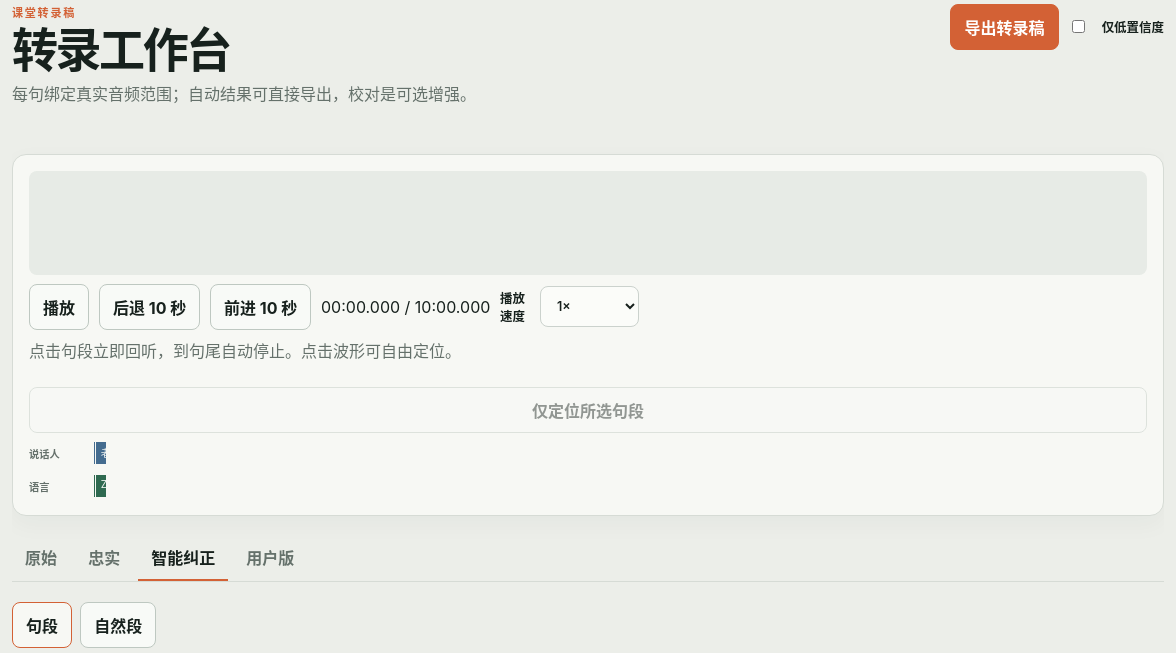
Scenario: groups consecutive sentences and preserves playback, selection and text-layer changes
Click the button "自然段": (118, 625) [80,602,156,648]
(page scrolled)
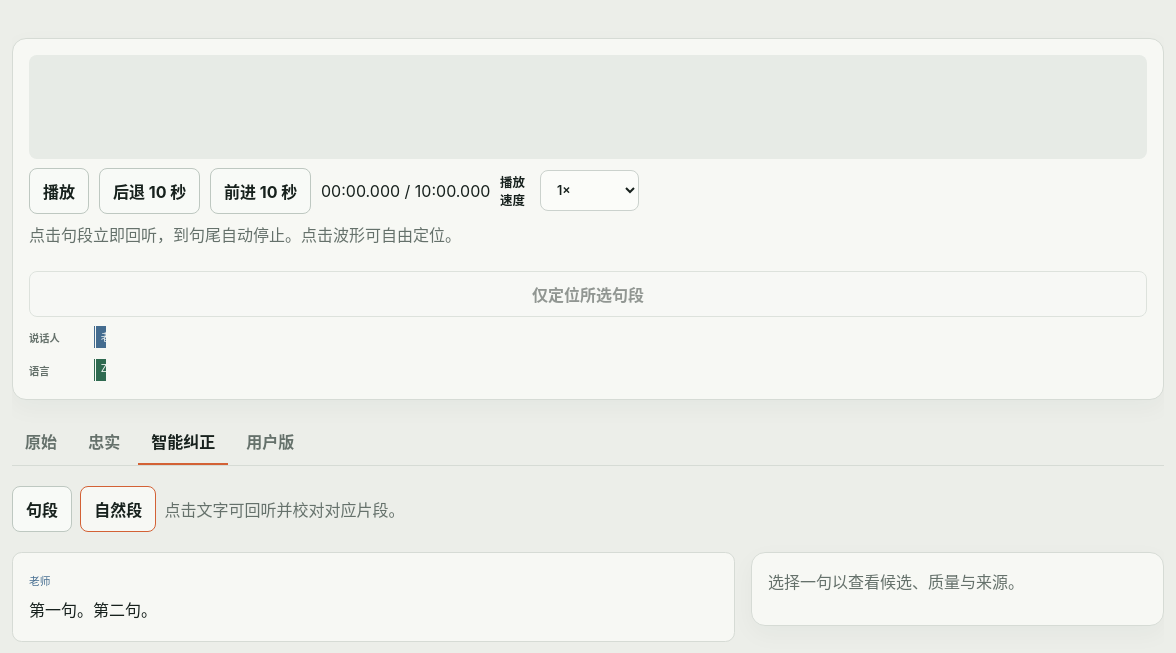
Expected: the number of elements with class "readable-paragraph" is 1, [12,552,735,642]
Click the button "第二句。": (125, 610) [93,595,157,625]
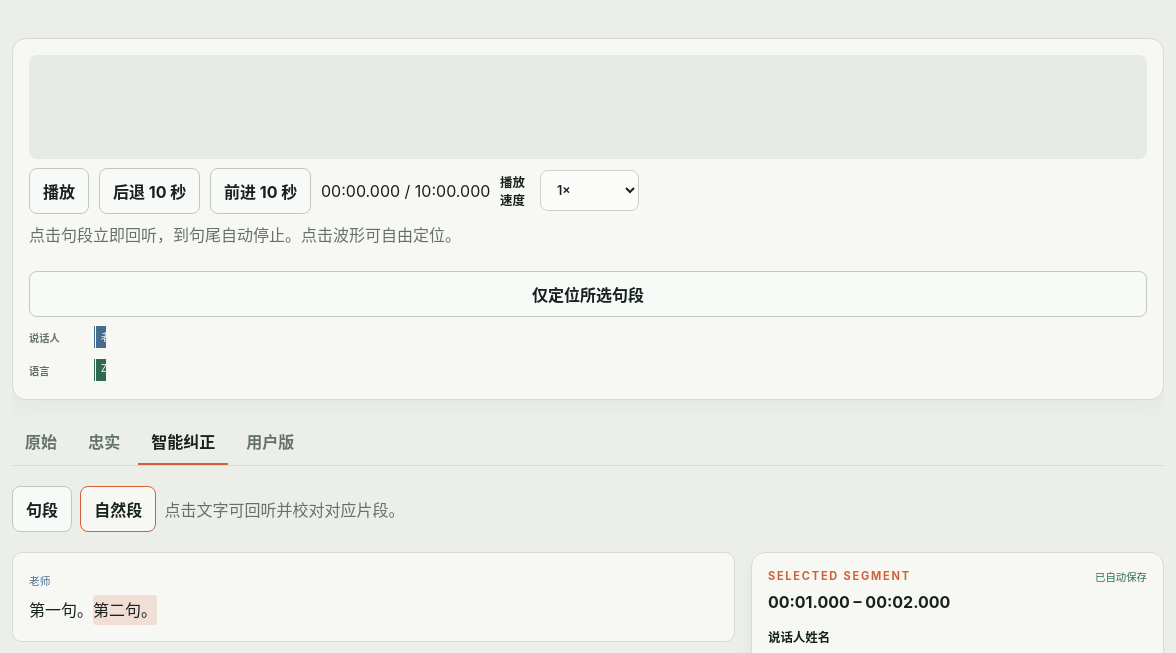
Click the tab "忠实": (104, 442) [75,420,133,465]
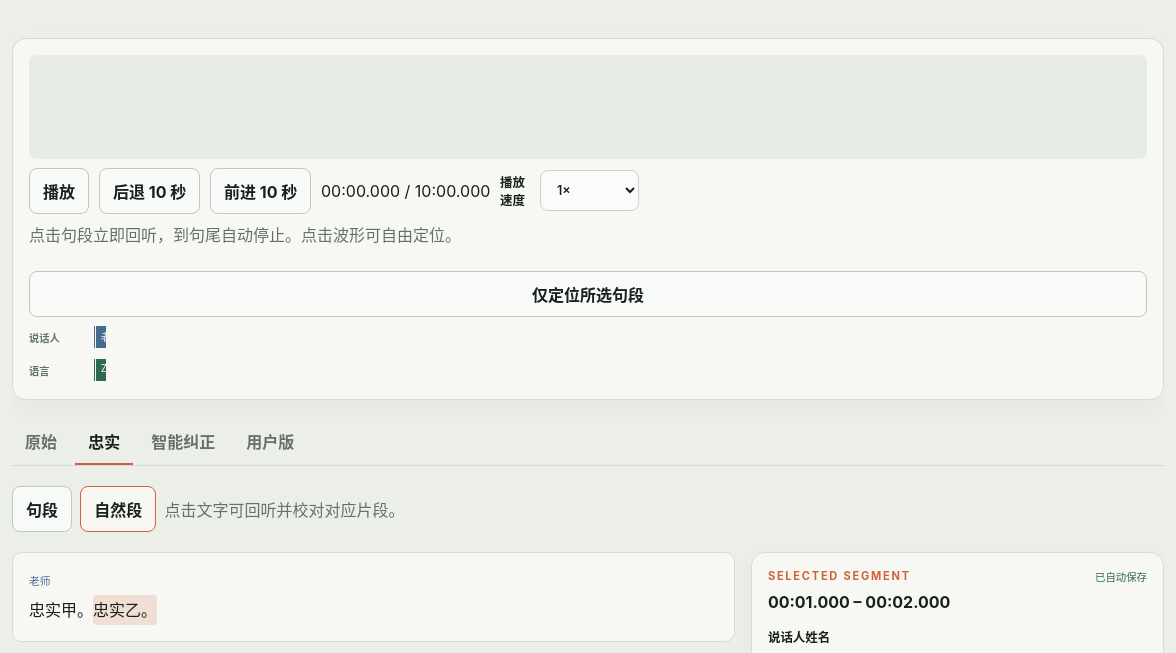
Expected: the button "忠实乙。" is shown, [93,595,157,625]
Click the tab "用户版": (270, 442) [233,420,307,465]
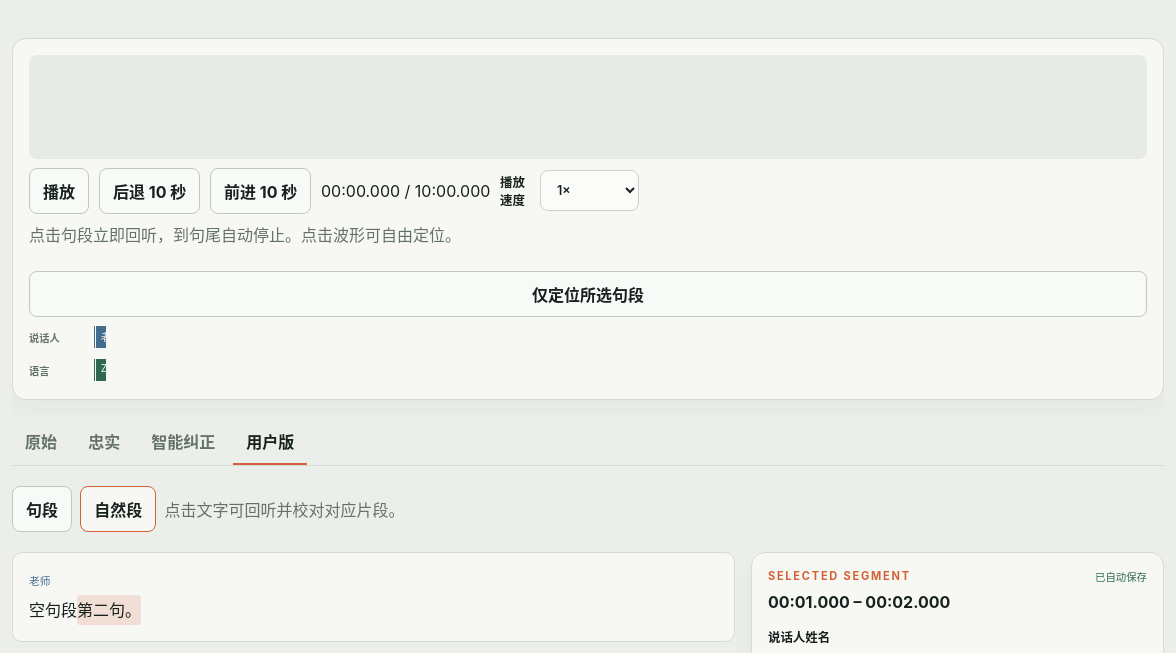
Expected: the button "第一句。" is not shown
Expected: the button "空句段" is shown, [29,595,77,625]
Click the button "句段": (42, 509) [12,486,72,532]
(page scrolled)
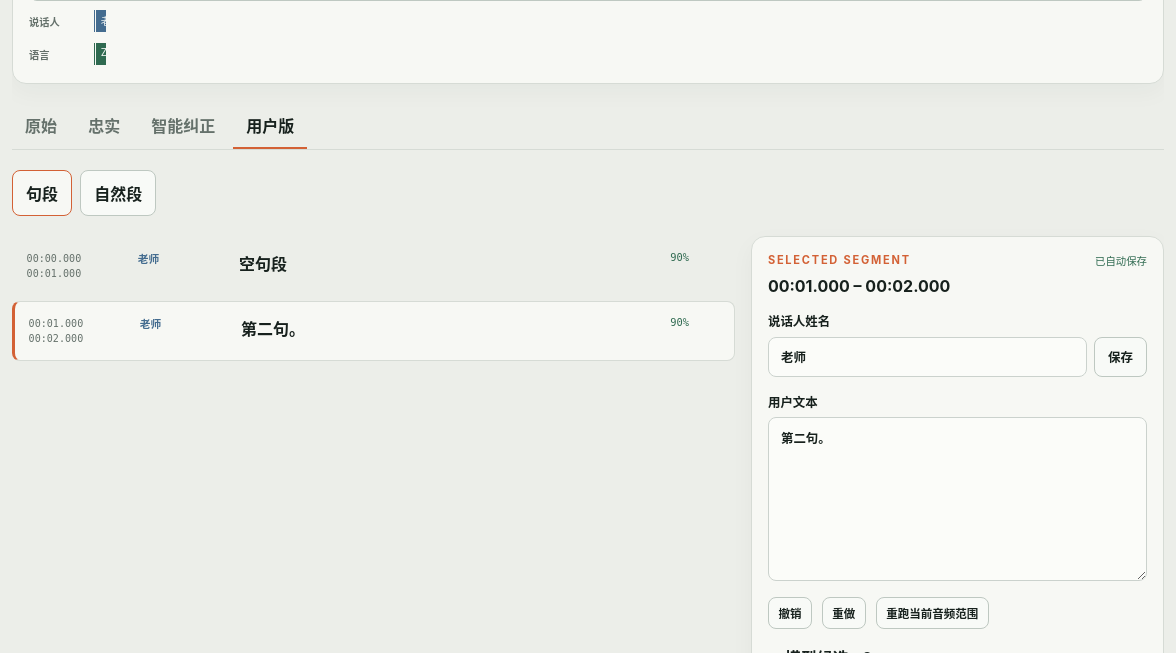
Expected: the element named "句段列表" is shown, [12,236,735,361]
